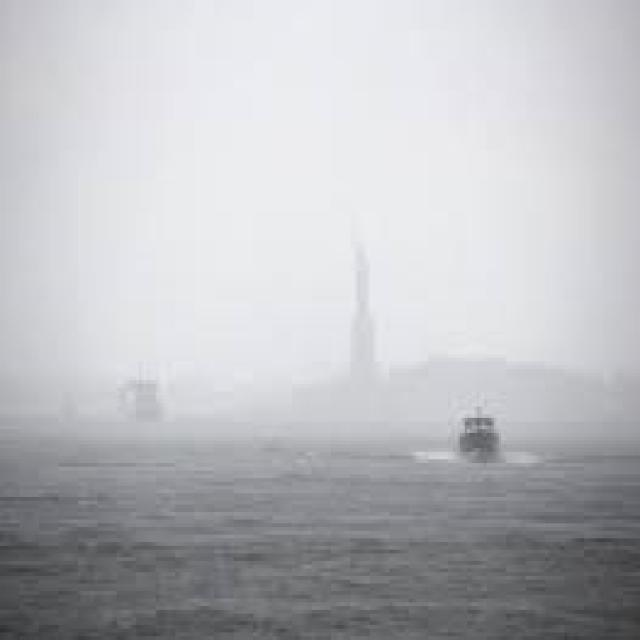houseboat: (454, 392, 503, 467), (109, 363, 174, 419)
